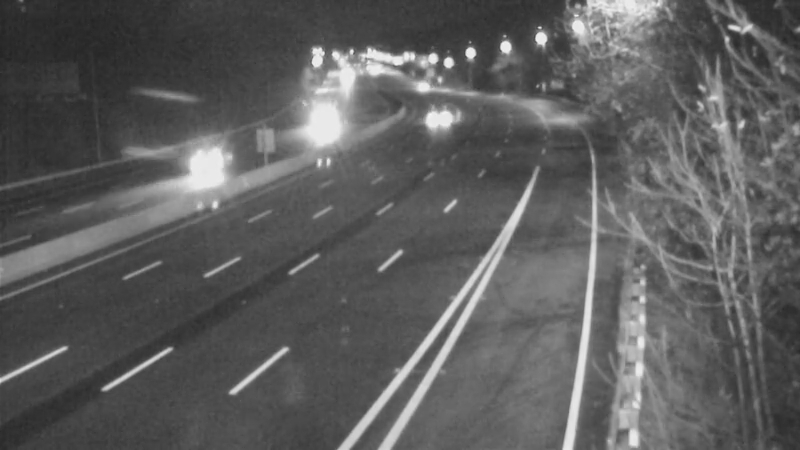vehicle: (171, 123, 251, 203), (397, 58, 447, 108), (411, 95, 461, 145), (289, 102, 339, 152)
